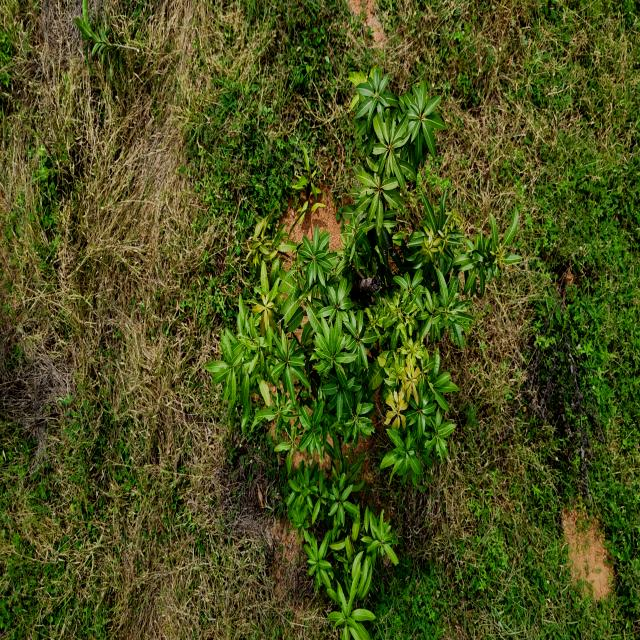mangoTree: (203, 60, 526, 640)
